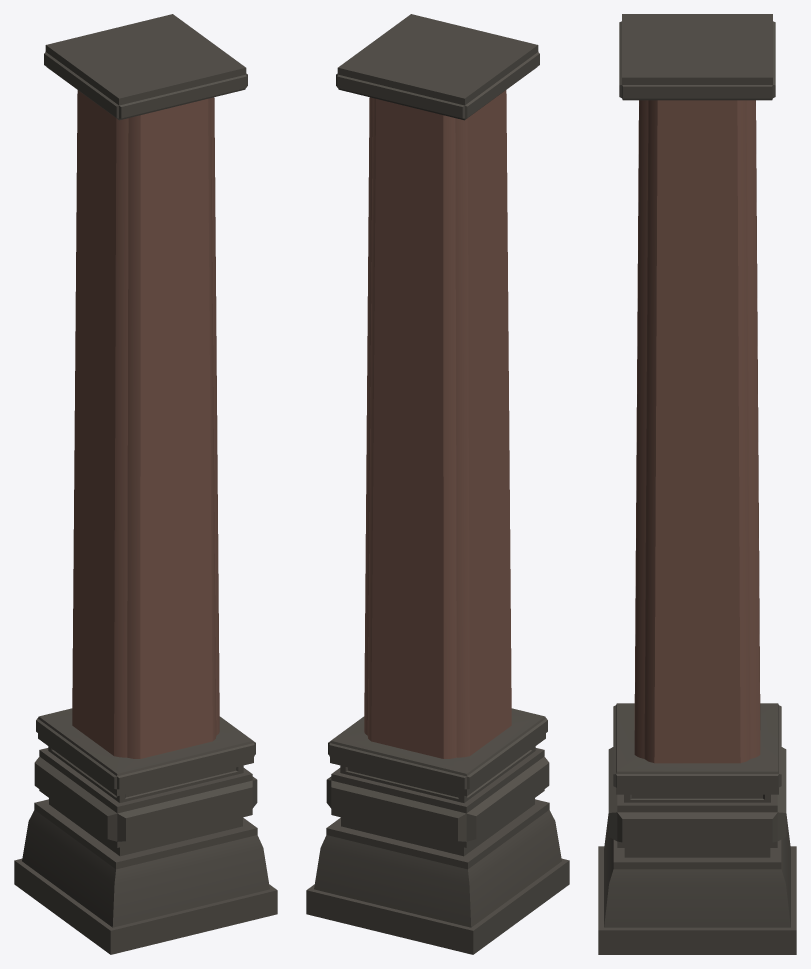
Rendered from Pillar.fbx.
3 renders of one model, left to right at view 1: azimuth 30°, elevation 25°; view 2: azimuth 150°, elevation 25°; view 3: azimuth 270°, elevation 25°, orthographic. The views are drawn at different scales.
Visible parts, largest first — view 1: Pillar_Basic_Shear; view 2: Pillar_Basic_Shear; view 3: Pillar_Basic_Shear.
Part boxes in pixels (x1,y1,x2,y2): Pillar_Basic_Shear: (14, 14, 277, 954); Pillar_Basic_Shear: (306, 14, 569, 954); Pillar_Basic_Shear: (598, 14, 796, 954).
Bounding box in the file's own units: 2 × 9.66 × 2.
